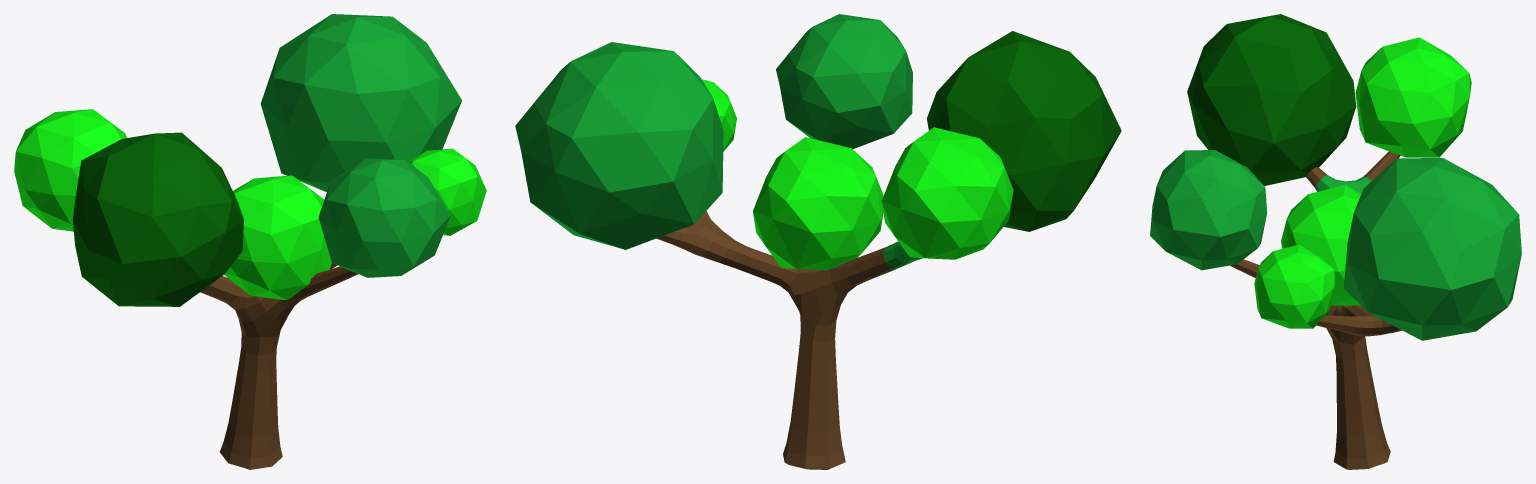
The model's file is Park1_T4.glb.
3 renders of one model, left to right at view 1: azimuth 30°, elevation 25°; view 2: azimuth 150°, elevation 25°; view 3: azimuth 270°, elevation 25°, orthographic. The views are drawn at different scales.
Parts seen in each view (by area): view 1: Park1-T4; view 2: Park1-T4; view 3: Park1-T4.
Part boxes in pixels (x1,y1,x2,y2): Park1-T4: (14, 14, 486, 469); Park1-T4: (515, 14, 1121, 469); Park1-T4: (1150, 14, 1521, 469).
Size of the model in its own units: 31.33 by 26.26 by 23.42.
